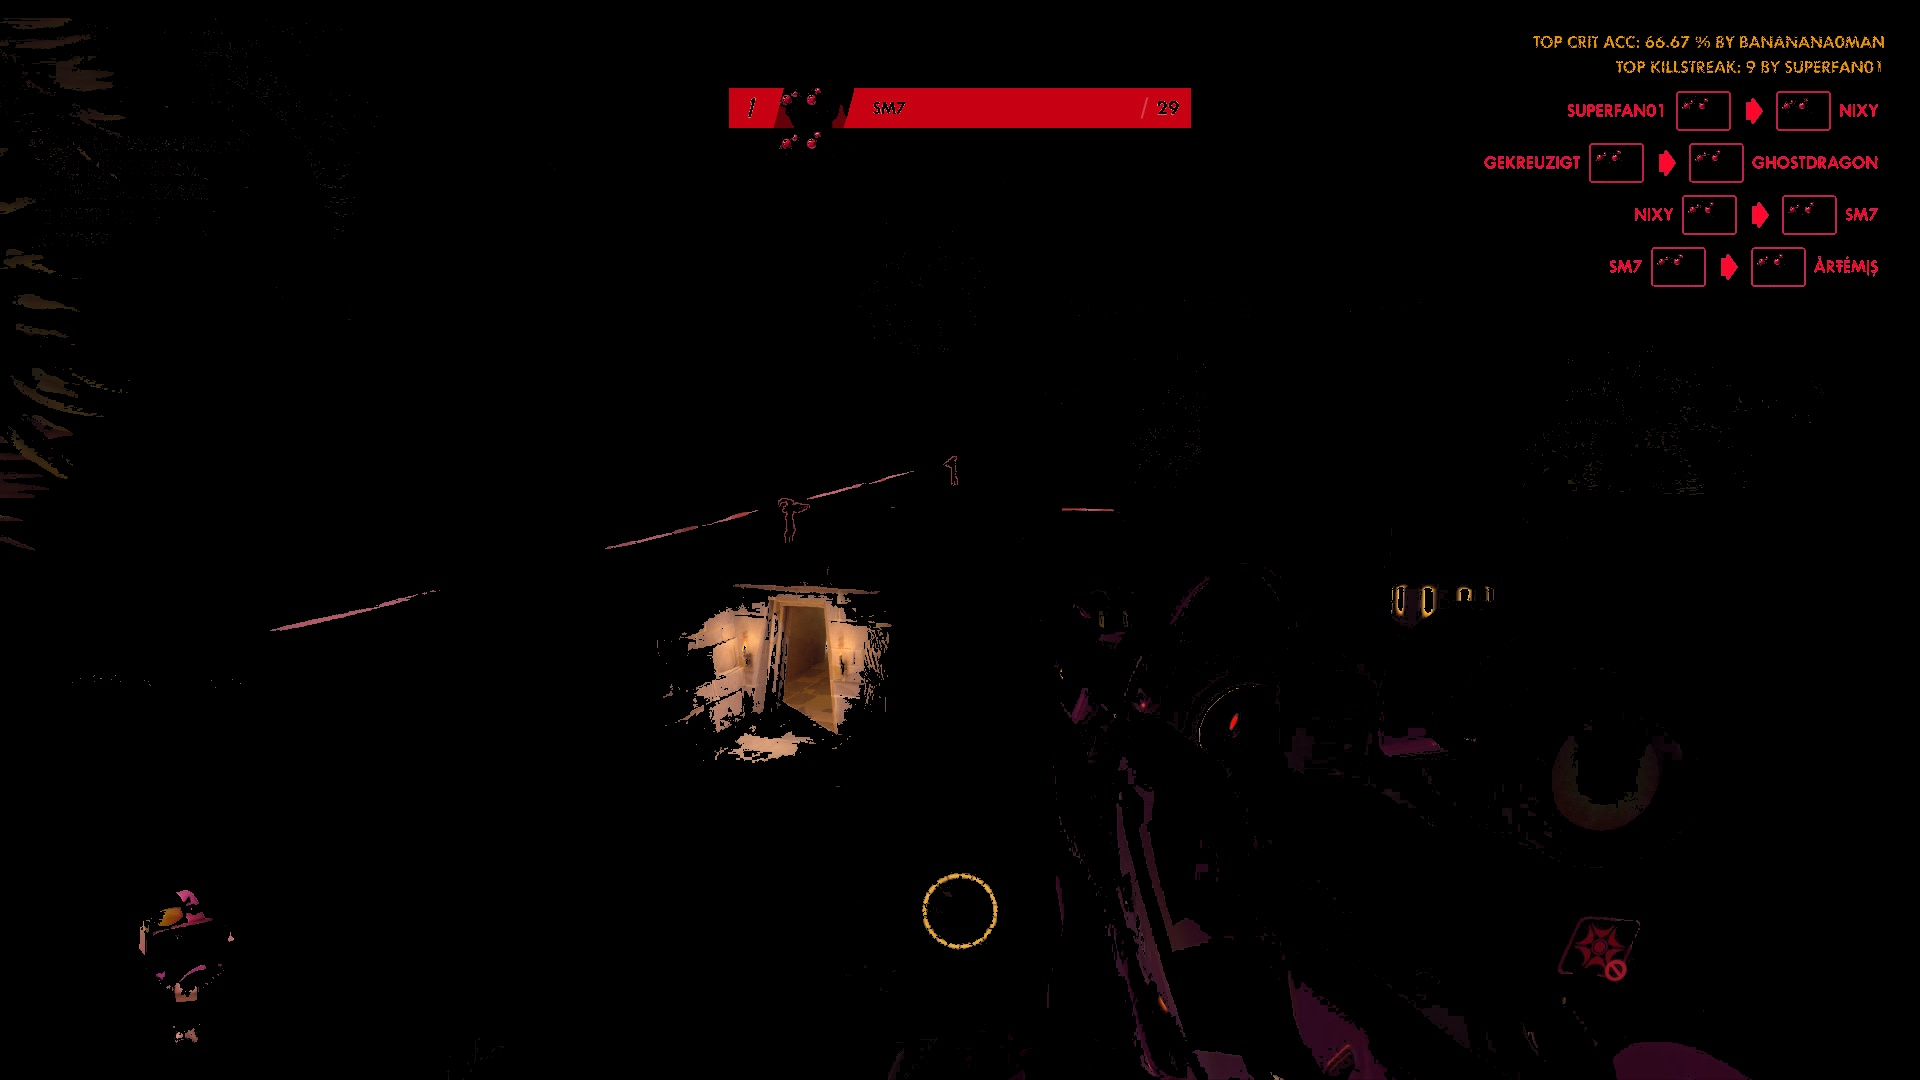widowmaker: (778, 498, 800, 547), (947, 455, 959, 488)
